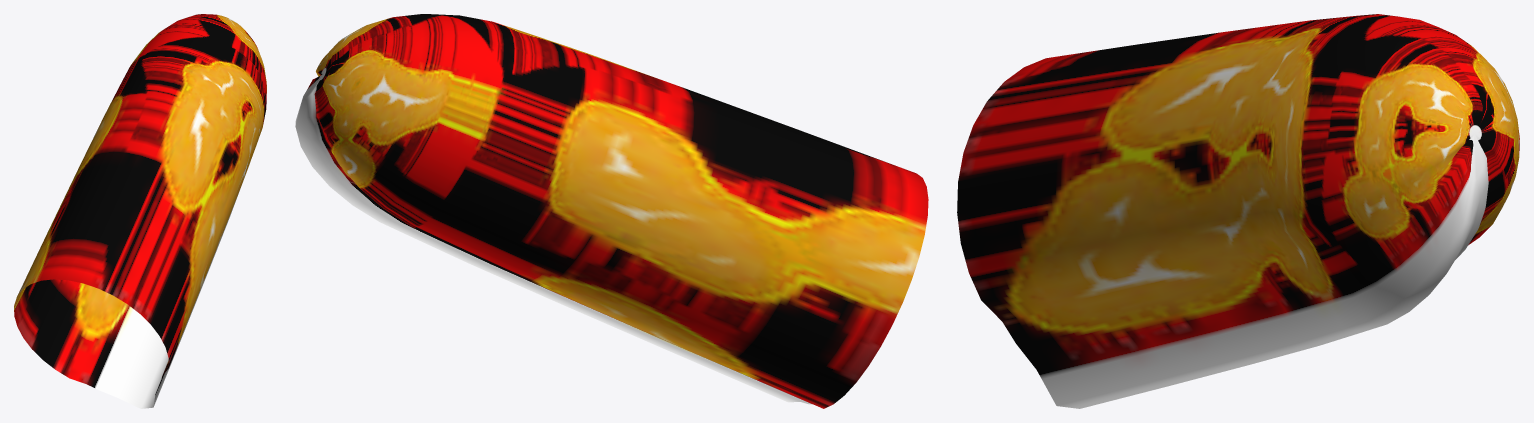
File: effect_bzll_juexing_qiang_dongzuo #2134090.fbx
3 views of the same model, side by side, from view 1: azimuth 30°, elevation 25°; view 2: azimuth 150°, elevation 25°; view 3: azimuth 270°, elevation 25° (orthographic). The views are drawn at different scales.
Parts seen in each view (by area): view 1: effect_bzll_juexing_qiang; view 2: effect_bzll_juexing_qiang; view 3: effect_bzll_juexing_qiang.
Part boxes in pixels (x1,y1,x2,y2): effect_bzll_juexing_qiang: (14, 14, 266, 408); effect_bzll_juexing_qiang: (295, 14, 928, 408); effect_bzll_juexing_qiang: (957, 14, 1519, 408).
Size of the model in its own units: 0.6907 by 0.5781 by 0.584.
